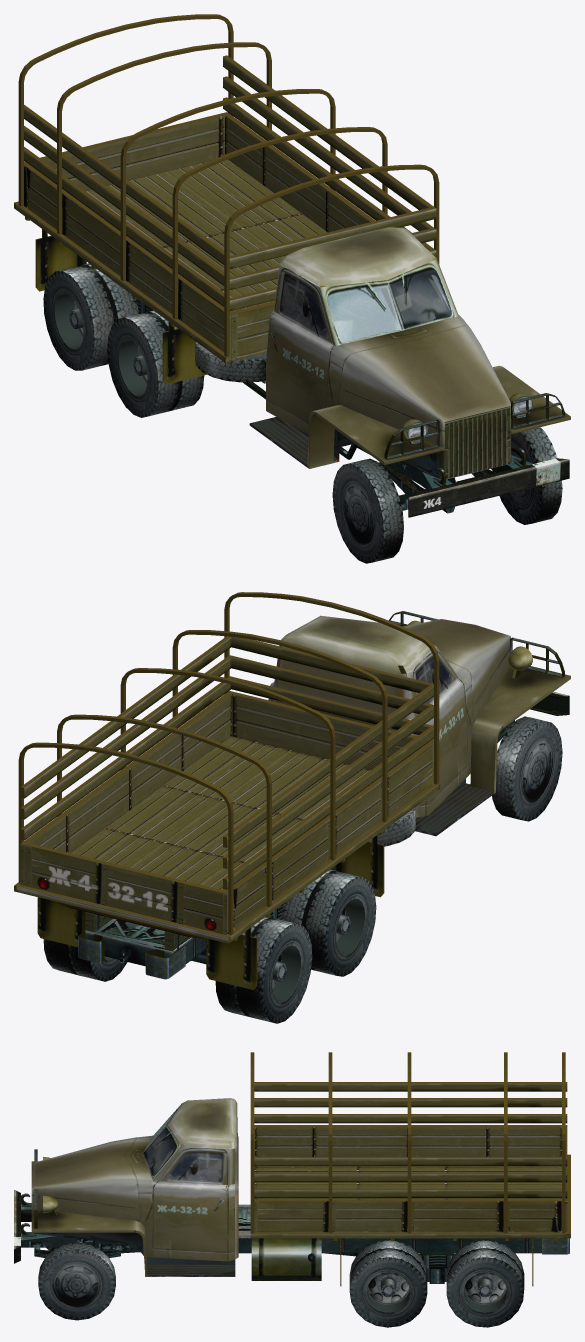
Rendered from Studebaker.FBX.
3 renders of one model, top to bottom at view 1: azimuth 30°, elevation 25°; view 2: azimuth 150°, elevation 25°; view 3: azimuth 270°, elevation 25°, orthographic. The views are drawn at different scales.
Visible parts, largest first — view 1: box-body, cabin, U3-wheel, basic, detail_console; view 2: box-body, cabin, U3-wheel, basic, detail_console; view 3: box-body, cabin, U3-wheel, basic, detail_console.
Part boxes in pixels (x1,y1,x2,y2): box-body: [14, 14, 439, 384]; cabin: [249, 227, 570, 479]; U3-wheel: [43, 263, 562, 563]; basic: [136, 299, 569, 517]; detail_console: [384, 393, 564, 486]; box-body: [14, 592, 440, 989]; cabin: [268, 615, 570, 836]; U3-wheel: [43, 716, 562, 1023]; basic: [85, 692, 569, 966]; detail_console: [78, 611, 564, 979]; box-body: [250, 1052, 570, 1286]; cabin: [31, 1098, 238, 1276]; U3-wheel: [38, 1240, 524, 1327]; basic: [14, 1190, 541, 1283]; detail_console: [19, 1149, 569, 1254].
Bounding box in the file's own units: 2210 × 2644 × 6352.
